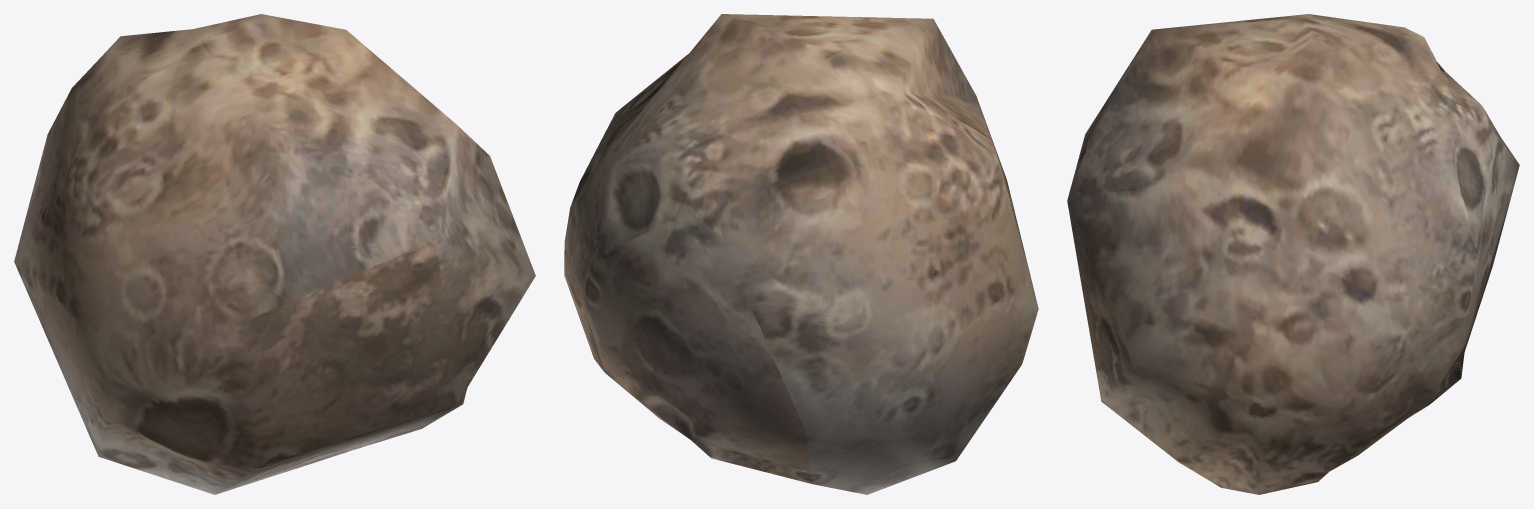
Rendered from asteroid_set_01_01.glb.
3 views of the same model, side by side, from view 1: azimuth 30°, elevation 25°; view 2: azimuth 150°, elevation 25°; view 3: azimuth 270°, elevation 25° (orthographic). The views are drawn at different scales.
Parts seen in each view (by area): view 1: Asteroid_01_LOD0; view 2: Asteroid_01_LOD0; view 3: Asteroid_01_LOD0.
Boxes of the visible parts, <box> form: Asteroid_01_LOD0: <box>14,14,535,494</box>; Asteroid_01_LOD0: <box>564,14,1038,494</box>; Asteroid_01_LOD0: <box>1067,14,1519,494</box>.
Size of what is drawn, in the model's own units: 2.05 by 1.99 by 1.91.
Materials: 1 (1 with a texture image).
